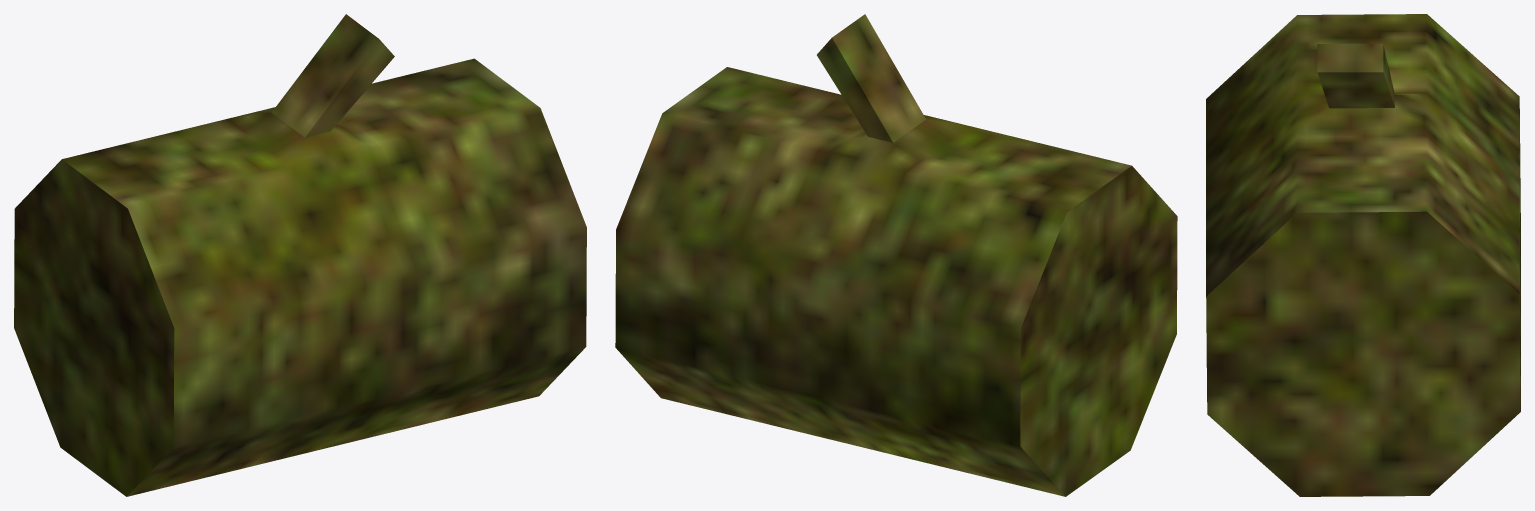
The model's file is SM_Trunk1.fbx.
3 views of the same model, side by side, from view 1: azimuth 30°, elevation 25°; view 2: azimuth 150°, elevation 25°; view 3: azimuth 270°, elevation 25° (orthographic).
Visible parts, largest first — view 1: SM_Trunk1; view 2: SM_Trunk1; view 3: SM_Trunk1.
Boxes of the visible parts, <box> form: SM_Trunk1: <box>14,14,586,496</box>; SM_Trunk1: <box>615,14,1177,496</box>; SM_Trunk1: <box>1206,14,1520,496</box>.
Size of the model in its own units: 115 by 103 by 77.32.
